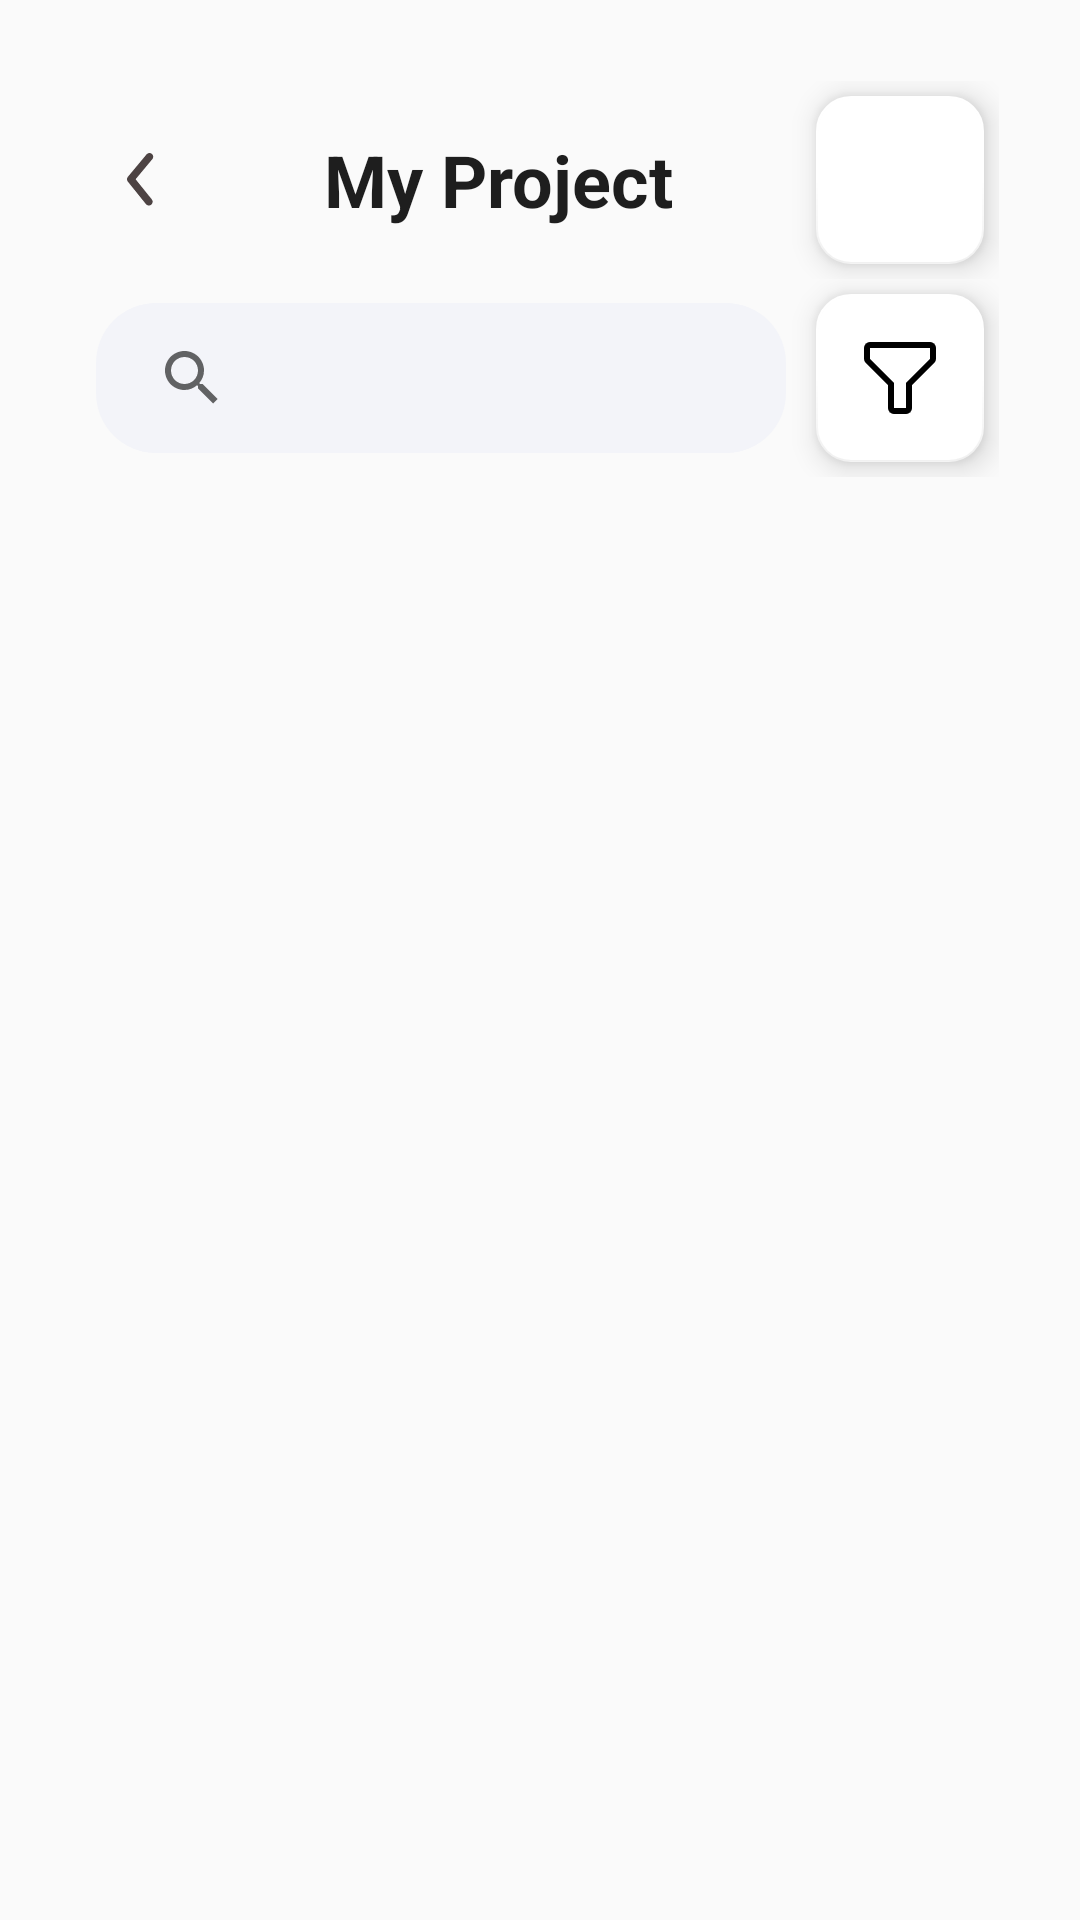

Where to tap for icons on this 1080×1920 app screen, as point (x, y):
filter: point (900, 378)
